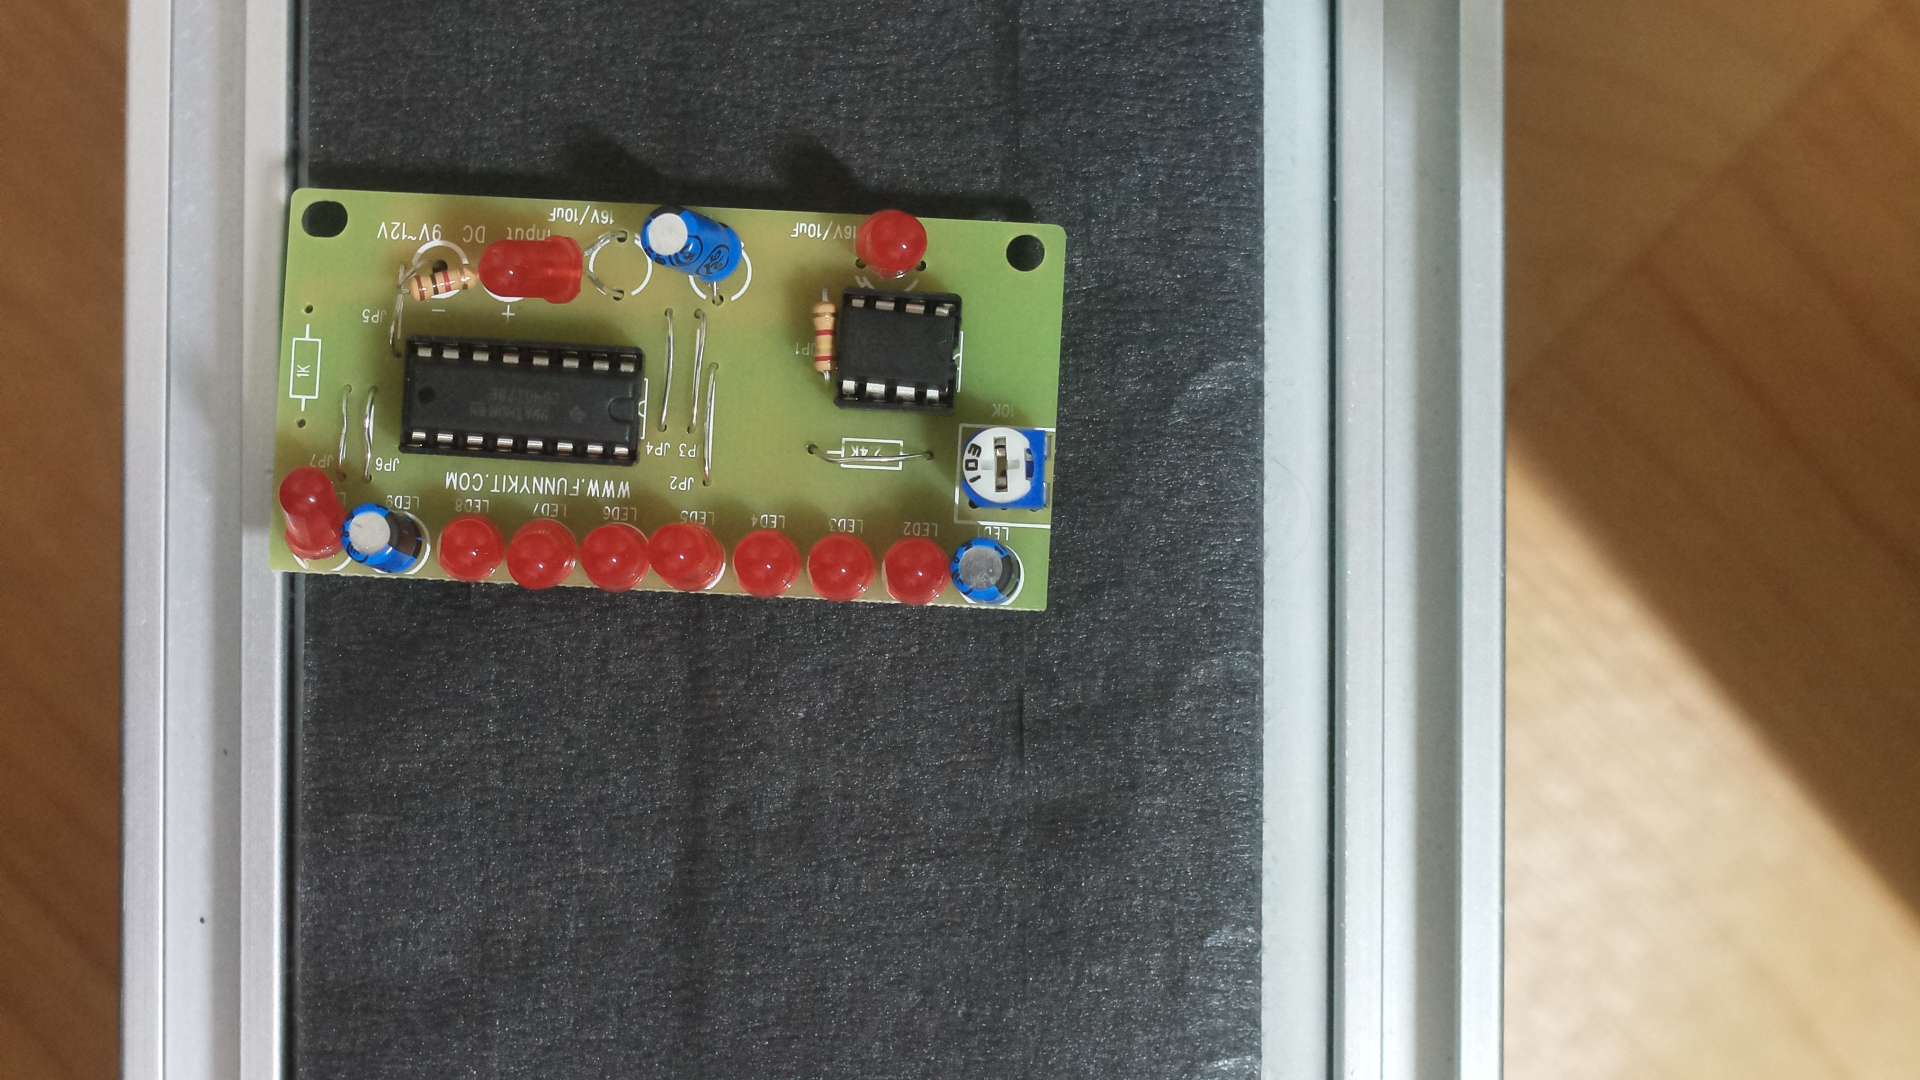B_Misordered: (255, 162, 1081, 650)
